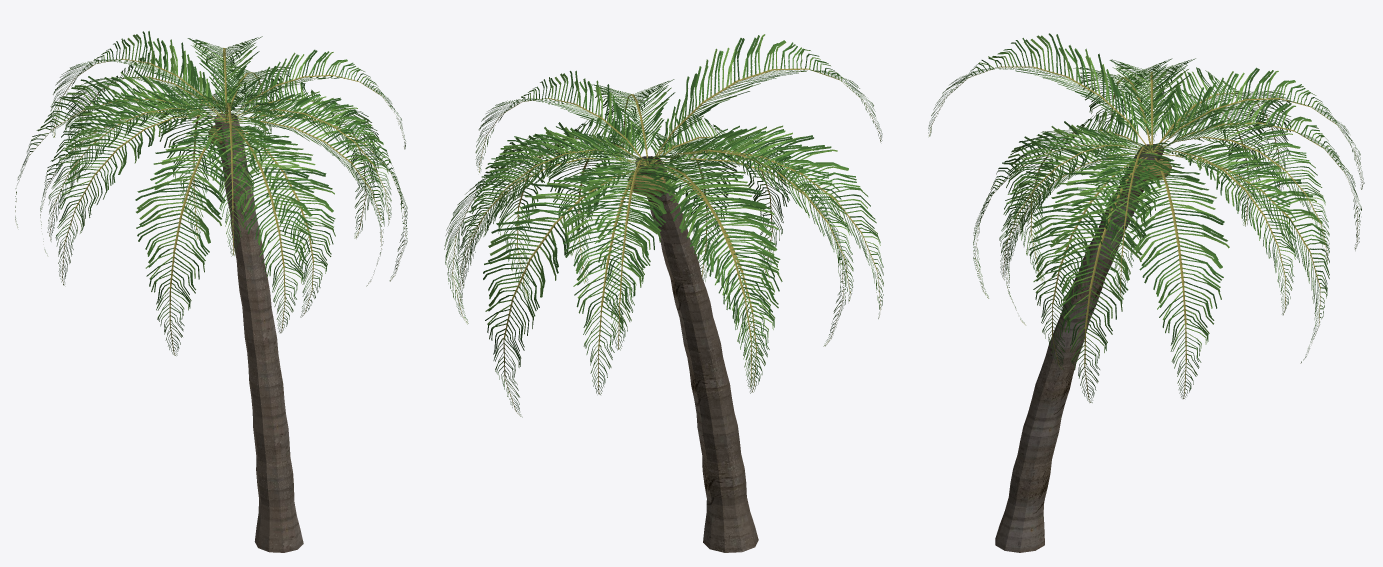
The model's file is palm_a.glb.
3 renders of one model, left to right at view 1: azimuth 30°, elevation 25°; view 2: azimuth 150°, elevation 25°; view 3: azimuth 270°, elevation 25°, orthographic. The views are drawn at different scales.
Visible parts, largest first — view 1: fronds, trunk; view 2: fronds, trunk; view 3: fronds, trunk.
Part boxes in pixels (x1,y1,x2,y2): fronds: [15, 31, 407, 355]; trunk: [214, 113, 303, 552]; fronds: [444, 34, 883, 417]; trunk: [635, 156, 758, 552]; fronds: [928, 33, 1364, 402]; trunk: [995, 144, 1164, 552].
Size of the model in its own units: 0.8419 by 1.03 by 0.8793.
Materials: 3 (2 with a texture image).
